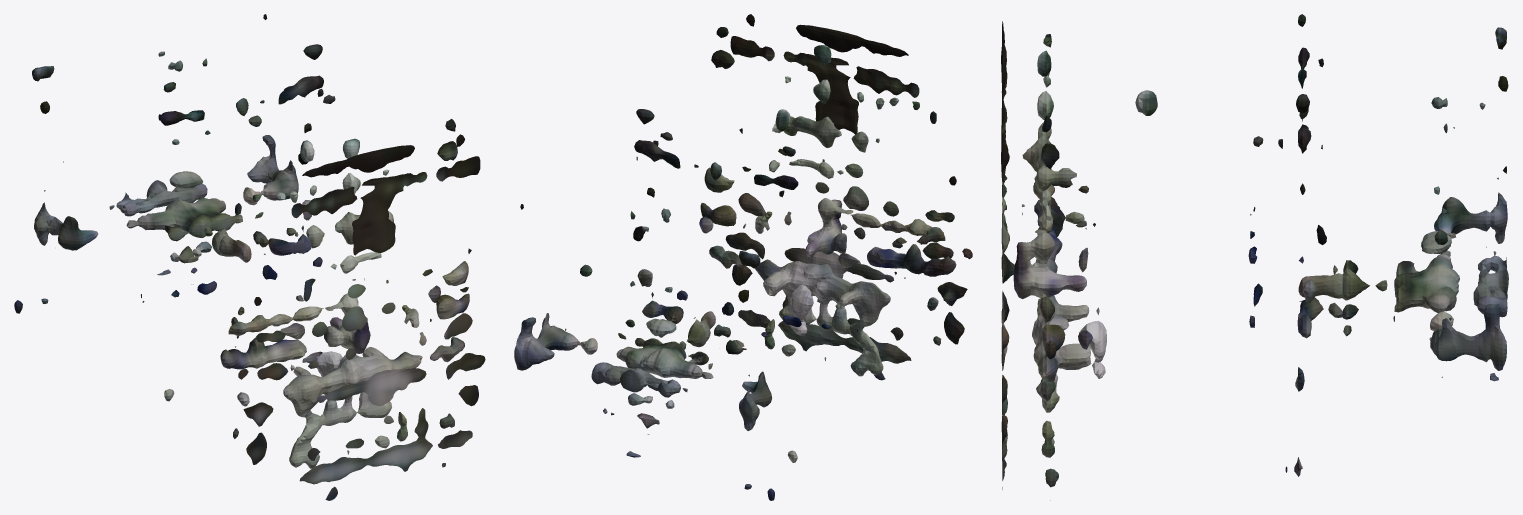
Rendered from Bobr member_1749481916.obj.
The picture shows the model from 3 angles, left to right: view 1: azimuth 30°, elevation 25°; view 2: azimuth 150°, elevation 25°; view 3: azimuth 270°, elevation 25°; orthographic projection. The views are drawn at different scales.
Size of the model in its own units: 1.4 by 1.73 by 1.97.
